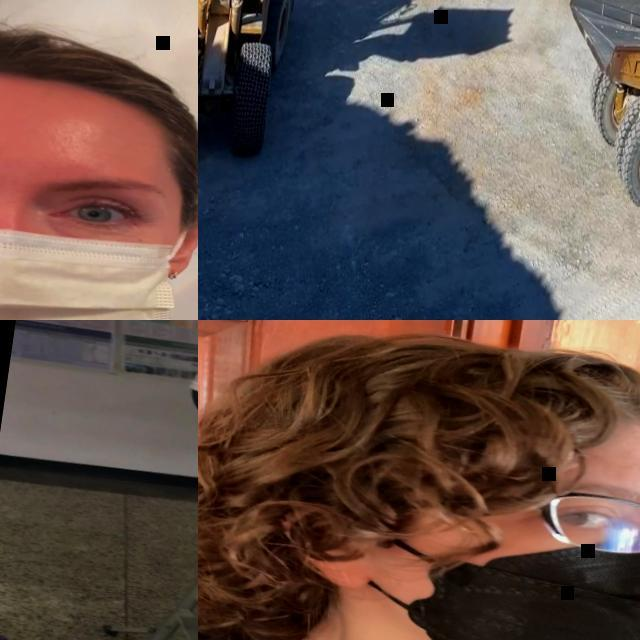machinery: (535, 0, 640, 225), (198, 0, 319, 179)
mask: (315, 481, 640, 640), (0, 151, 197, 320)
no_helmet: (238, 320, 640, 481), (0, 3, 198, 161)
person: (198, 320, 640, 640), (0, 0, 198, 320)
